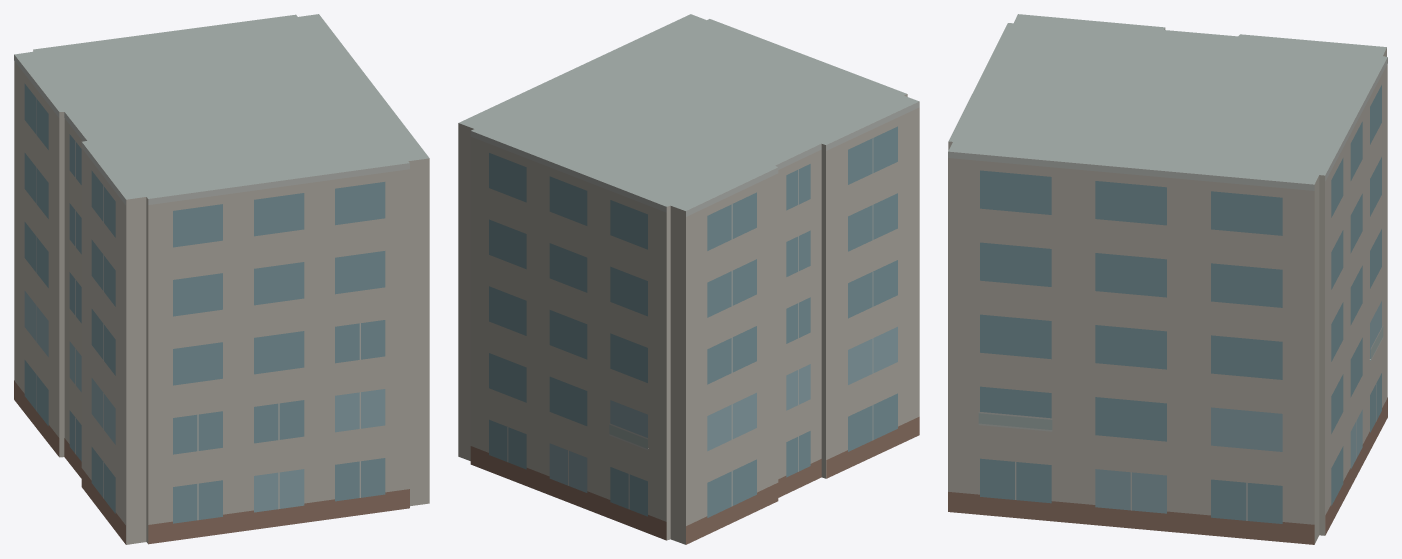
The model's file is survey-upis-33001433.glb.
The picture shows the model from 3 angles, left to right: view 1: azimuth 30°, elevation 25°; view 2: azimuth 150°, elevation 25°; view 3: azimuth 270°, elevation 25°; orthographic projection. The views are drawn at different scales.
Parts seen in each view (by area): view 1: survey-upis-33001433.tmp; view 2: survey-upis-33001433.tmp; view 3: survey-upis-33001433.tmp.
Part boxes in pixels (x1=…): survey-upis-33001433.tmp: x1=14, y1=14, x2=429, y2=544; survey-upis-33001433.tmp: x1=458, y1=14, x2=919, y2=544; survey-upis-33001433.tmp: x1=948, y1=14, x2=1387, y2=544.
Size of the model in its own units: 14.02 by 13.8 by 15.27.
